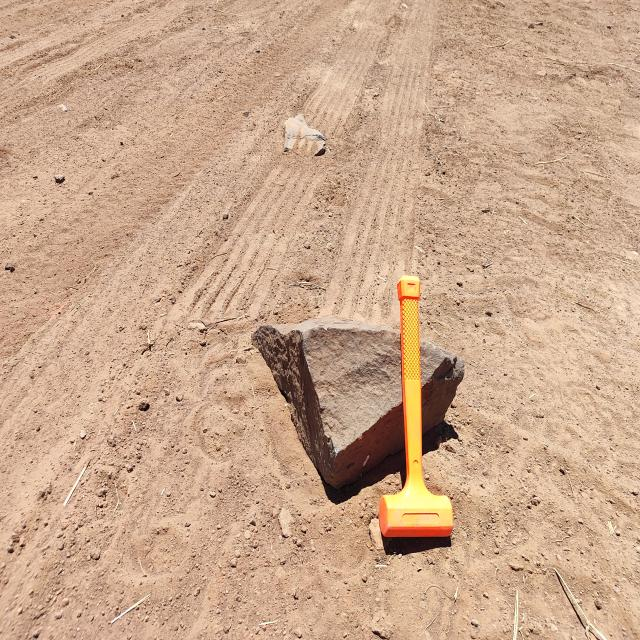Orange_hammer: (378, 274, 454, 540)
